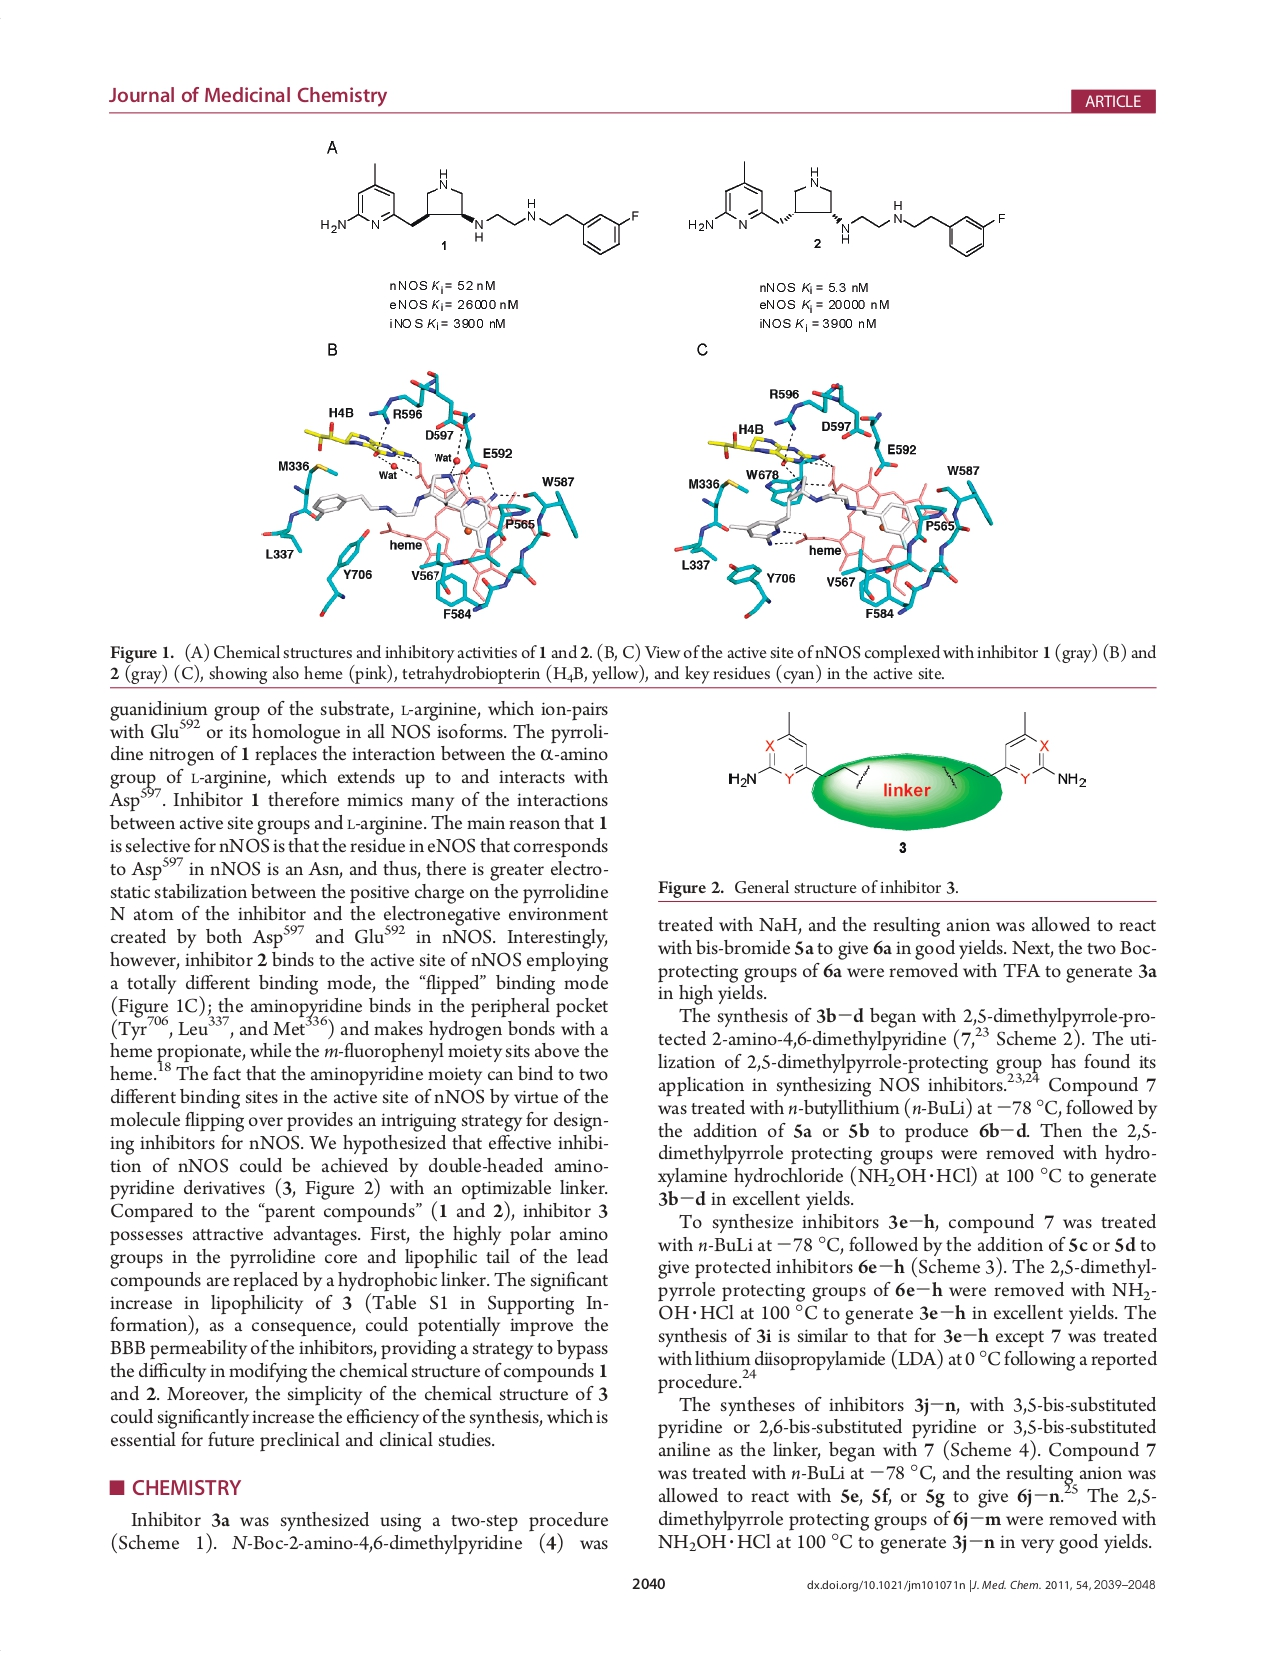exist_molecular: (682, 156, 1008, 262), (316, 160, 641, 257), (723, 706, 876, 801), (942, 706, 1090, 797)
